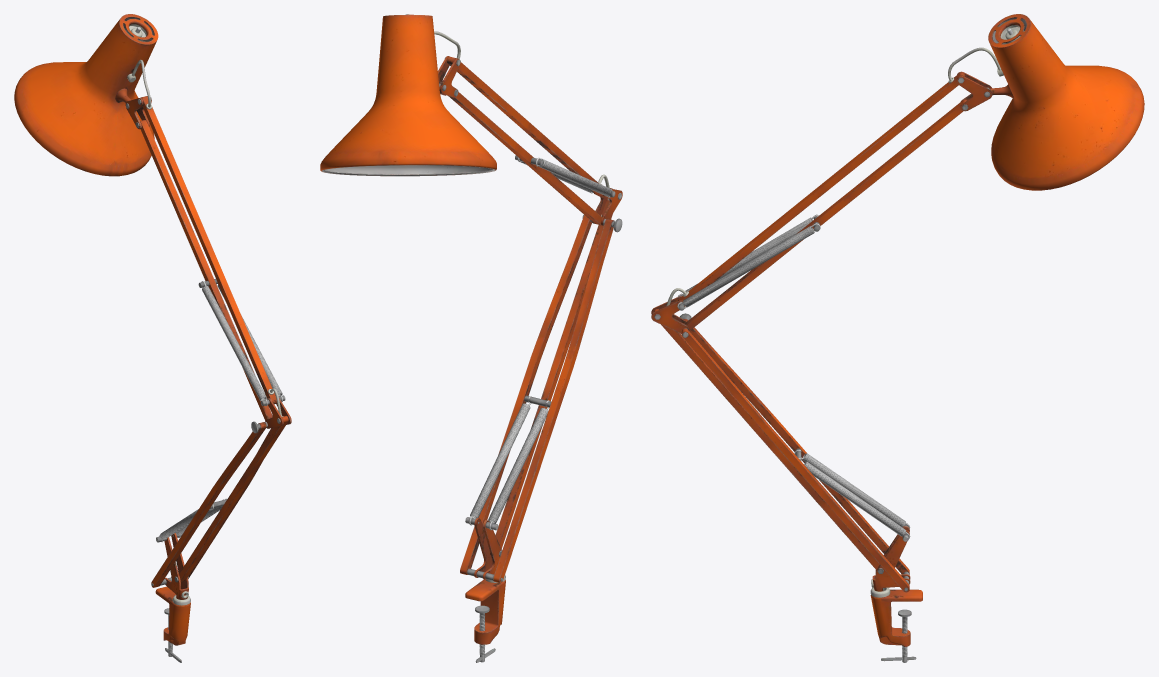
The model's file is desk_lamp_arm_01.glb.
3 views of the same model, side by side, from view 1: azimuth 30°, elevation 25°; view 2: azimuth 150°, elevation 25°; view 3: azimuth 270°, elevation 25° (orthographic). The views are drawn at different scales.
Parts seen in each view (by area): view 1: desk_lamp_arm_01; view 2: desk_lamp_arm_01; view 3: desk_lamp_arm_01.
Part boxes in pixels (x1,y1,x2,y2): desk_lamp_arm_01: [14, 14, 291, 662]; desk_lamp_arm_01: [320, 14, 622, 662]; desk_lamp_arm_01: [651, 14, 1144, 662].
Size of the model in its own units: 0.2017 by 0.8926 by 0.6139.
Materials: 2 (2 with a texture image).
